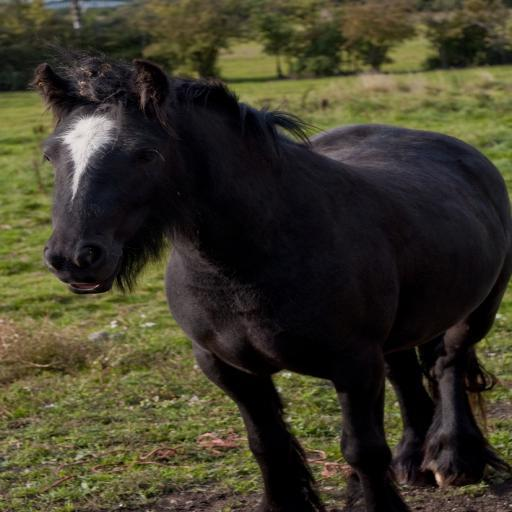horse: (28, 35, 512, 512)
